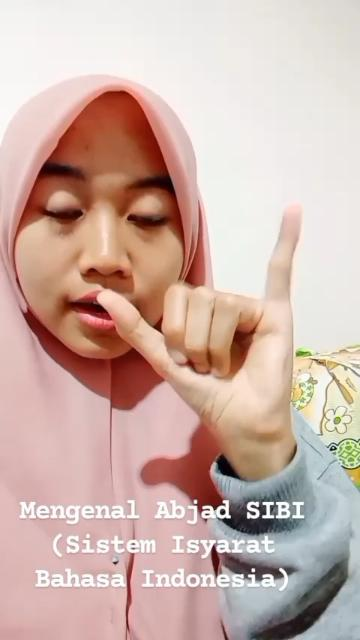Y: (95, 203, 297, 444)
